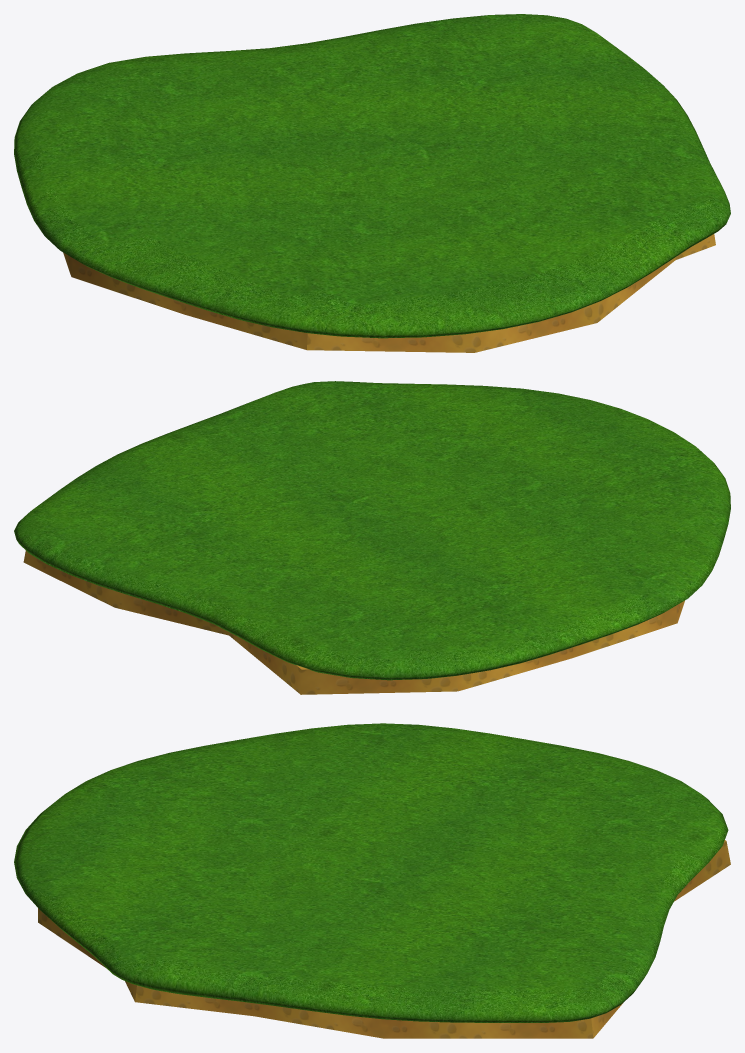
File: isla1.FBX
3 renders of one model, top to bottom at view 1: azimuth 30°, elevation 25°; view 2: azimuth 150°, elevation 25°; view 3: azimuth 270°, elevation 25°, orthographic. The views are drawn at different scales.
Visible parts, largest first — view 1: Box01, Box02; view 2: Box01, Box02; view 3: Box01, Box02.
Boxes of the visible parts, x1=… form: Box01: x1=14, y1=14, x2=730, y2=338; Box02: x1=63, y1=234, x2=715, y2=352; Box01: x1=14, y1=381, x2=730, y2=680; Box02: x1=23, y1=550, x2=684, y2=694; Box01: x1=14, y1=723, x2=728, y2=1022; Box02: x1=38, y1=840, x2=730, y2=1038.
Size of the model in its own units: 150 by 9.95 by 154.
2 materials, 2 textured.
